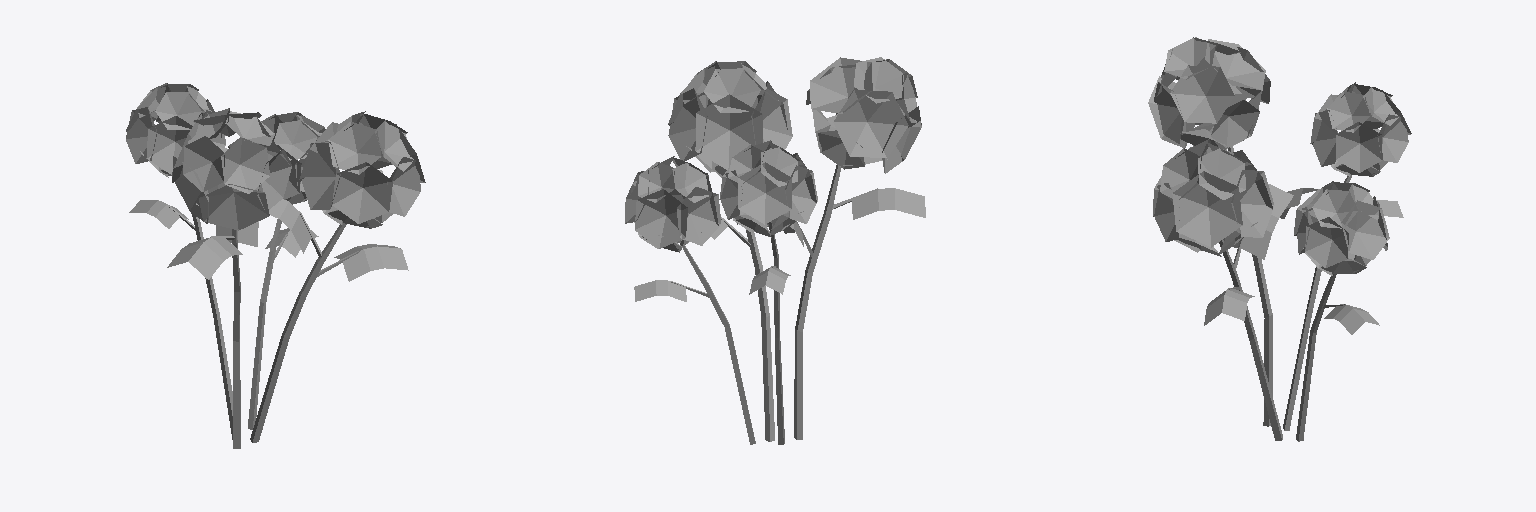
Rendered from Flower_1_Clump.obj.
3 renders of one model, left to right at view 1: azimuth 30°, elevation 25°; view 2: azimuth 150°, elevation 25°; view 3: azimuth 270°, elevation 25°, orthographic.
Visible parts, largest first — view 1: Flower_1_Clump_Plane.049; view 2: Flower_1_Clump_Plane.049; view 3: Flower_1_Clump_Plane.049.
Boxes of the visible parts, x1,y1,x2,y2 form: Flower_1_Clump_Plane.049: [126, 83, 425, 448]; Flower_1_Clump_Plane.049: [625, 57, 925, 444]; Flower_1_Clump_Plane.049: [1148, 37, 1411, 441].
Size of the model in its own units: 0.4711 by 0.6713 by 0.4352.